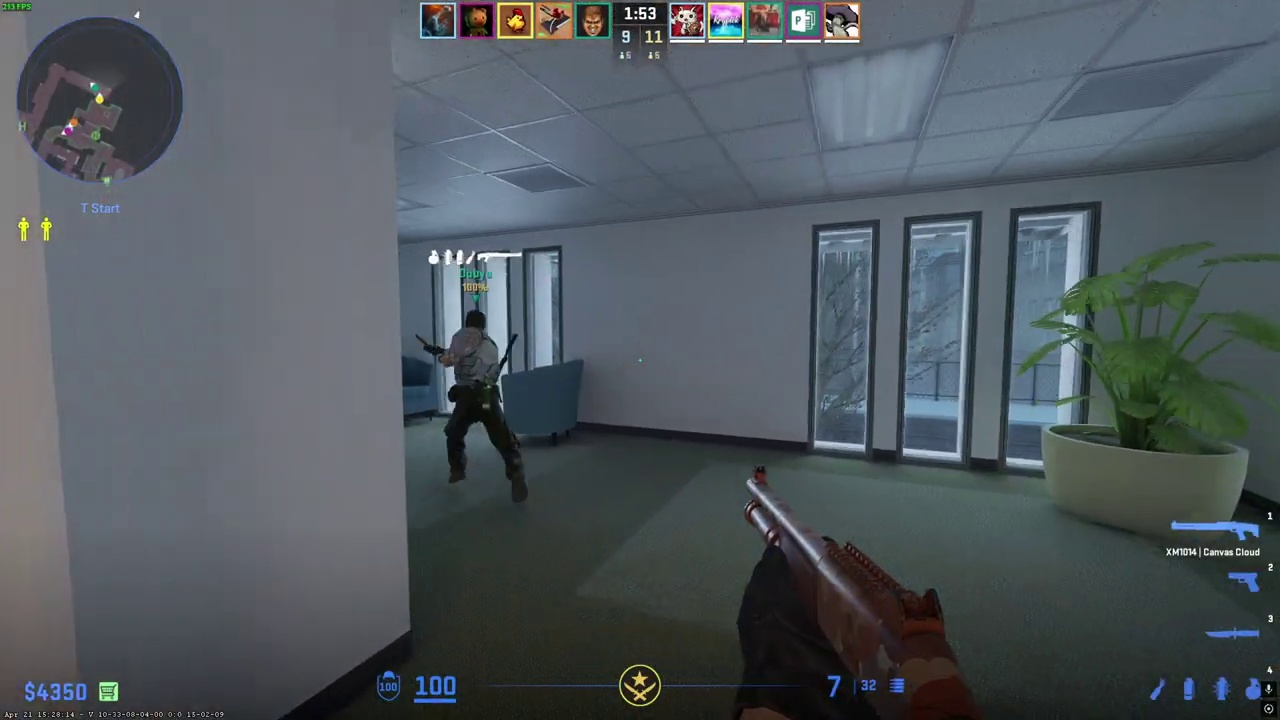Terrorist: (435, 310, 525, 503)
